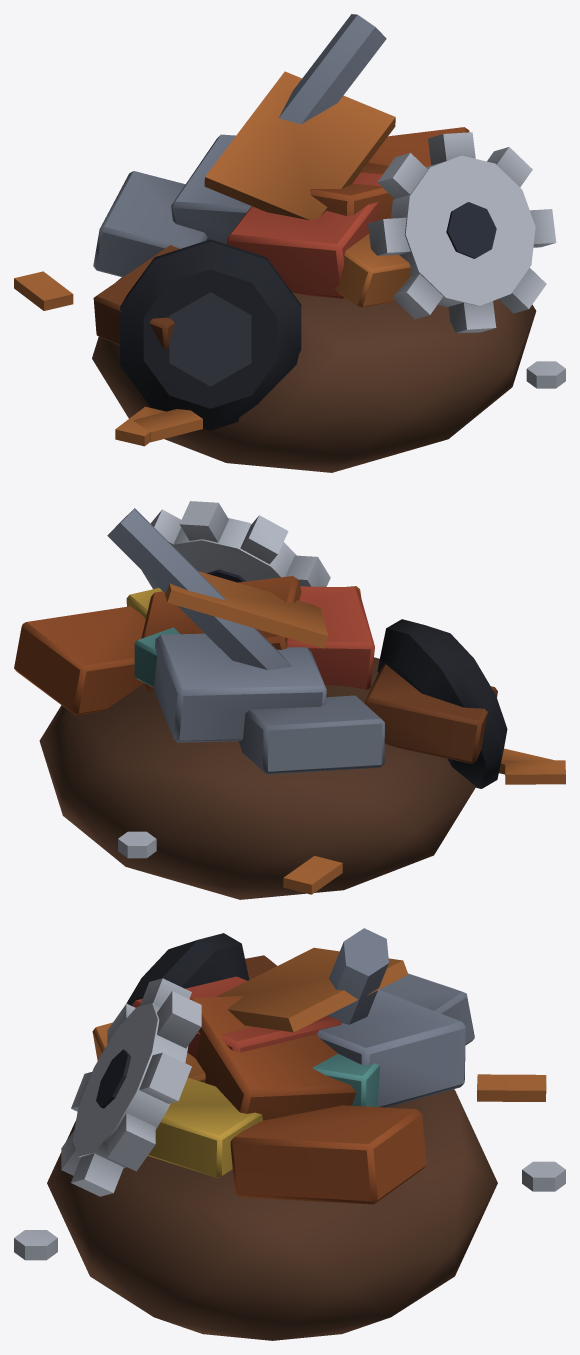
Rendered from n_scrap_2.glb.
3 views of the same model, one above another, from view 1: azimuth 30°, elevation 25°; view 2: azimuth 150°, elevation 25°; view 3: azimuth 270°, elevation 25° (orthographic). The views are drawn at different scales.
Visible parts, largest first — view 1: body; view 2: body; view 3: body.
Part boxes in pixels (x1=…): body: x1=14, y1=14, x2=565, y2=472; body: x1=14, y1=501, x2=565, y2=899; body: x1=14, y1=928, x2=565, y2=1340.
Size of the model in its own units: 1.89 by 1.49 by 1.76.
